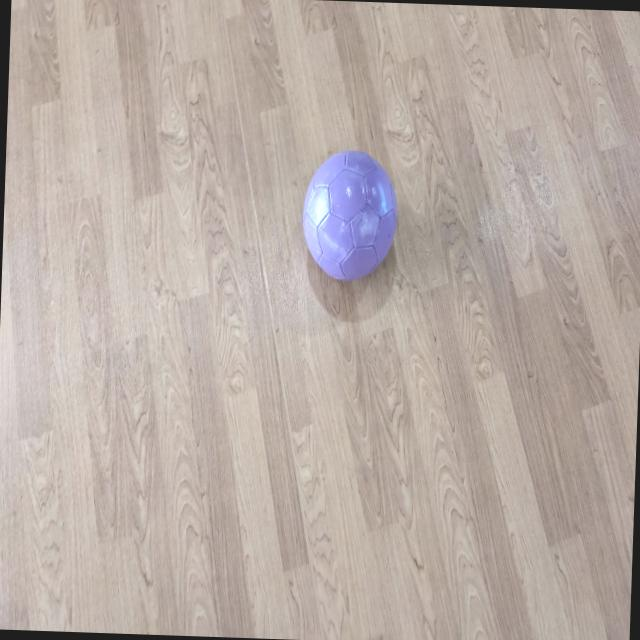purple_ball: (298, 151, 399, 282)
